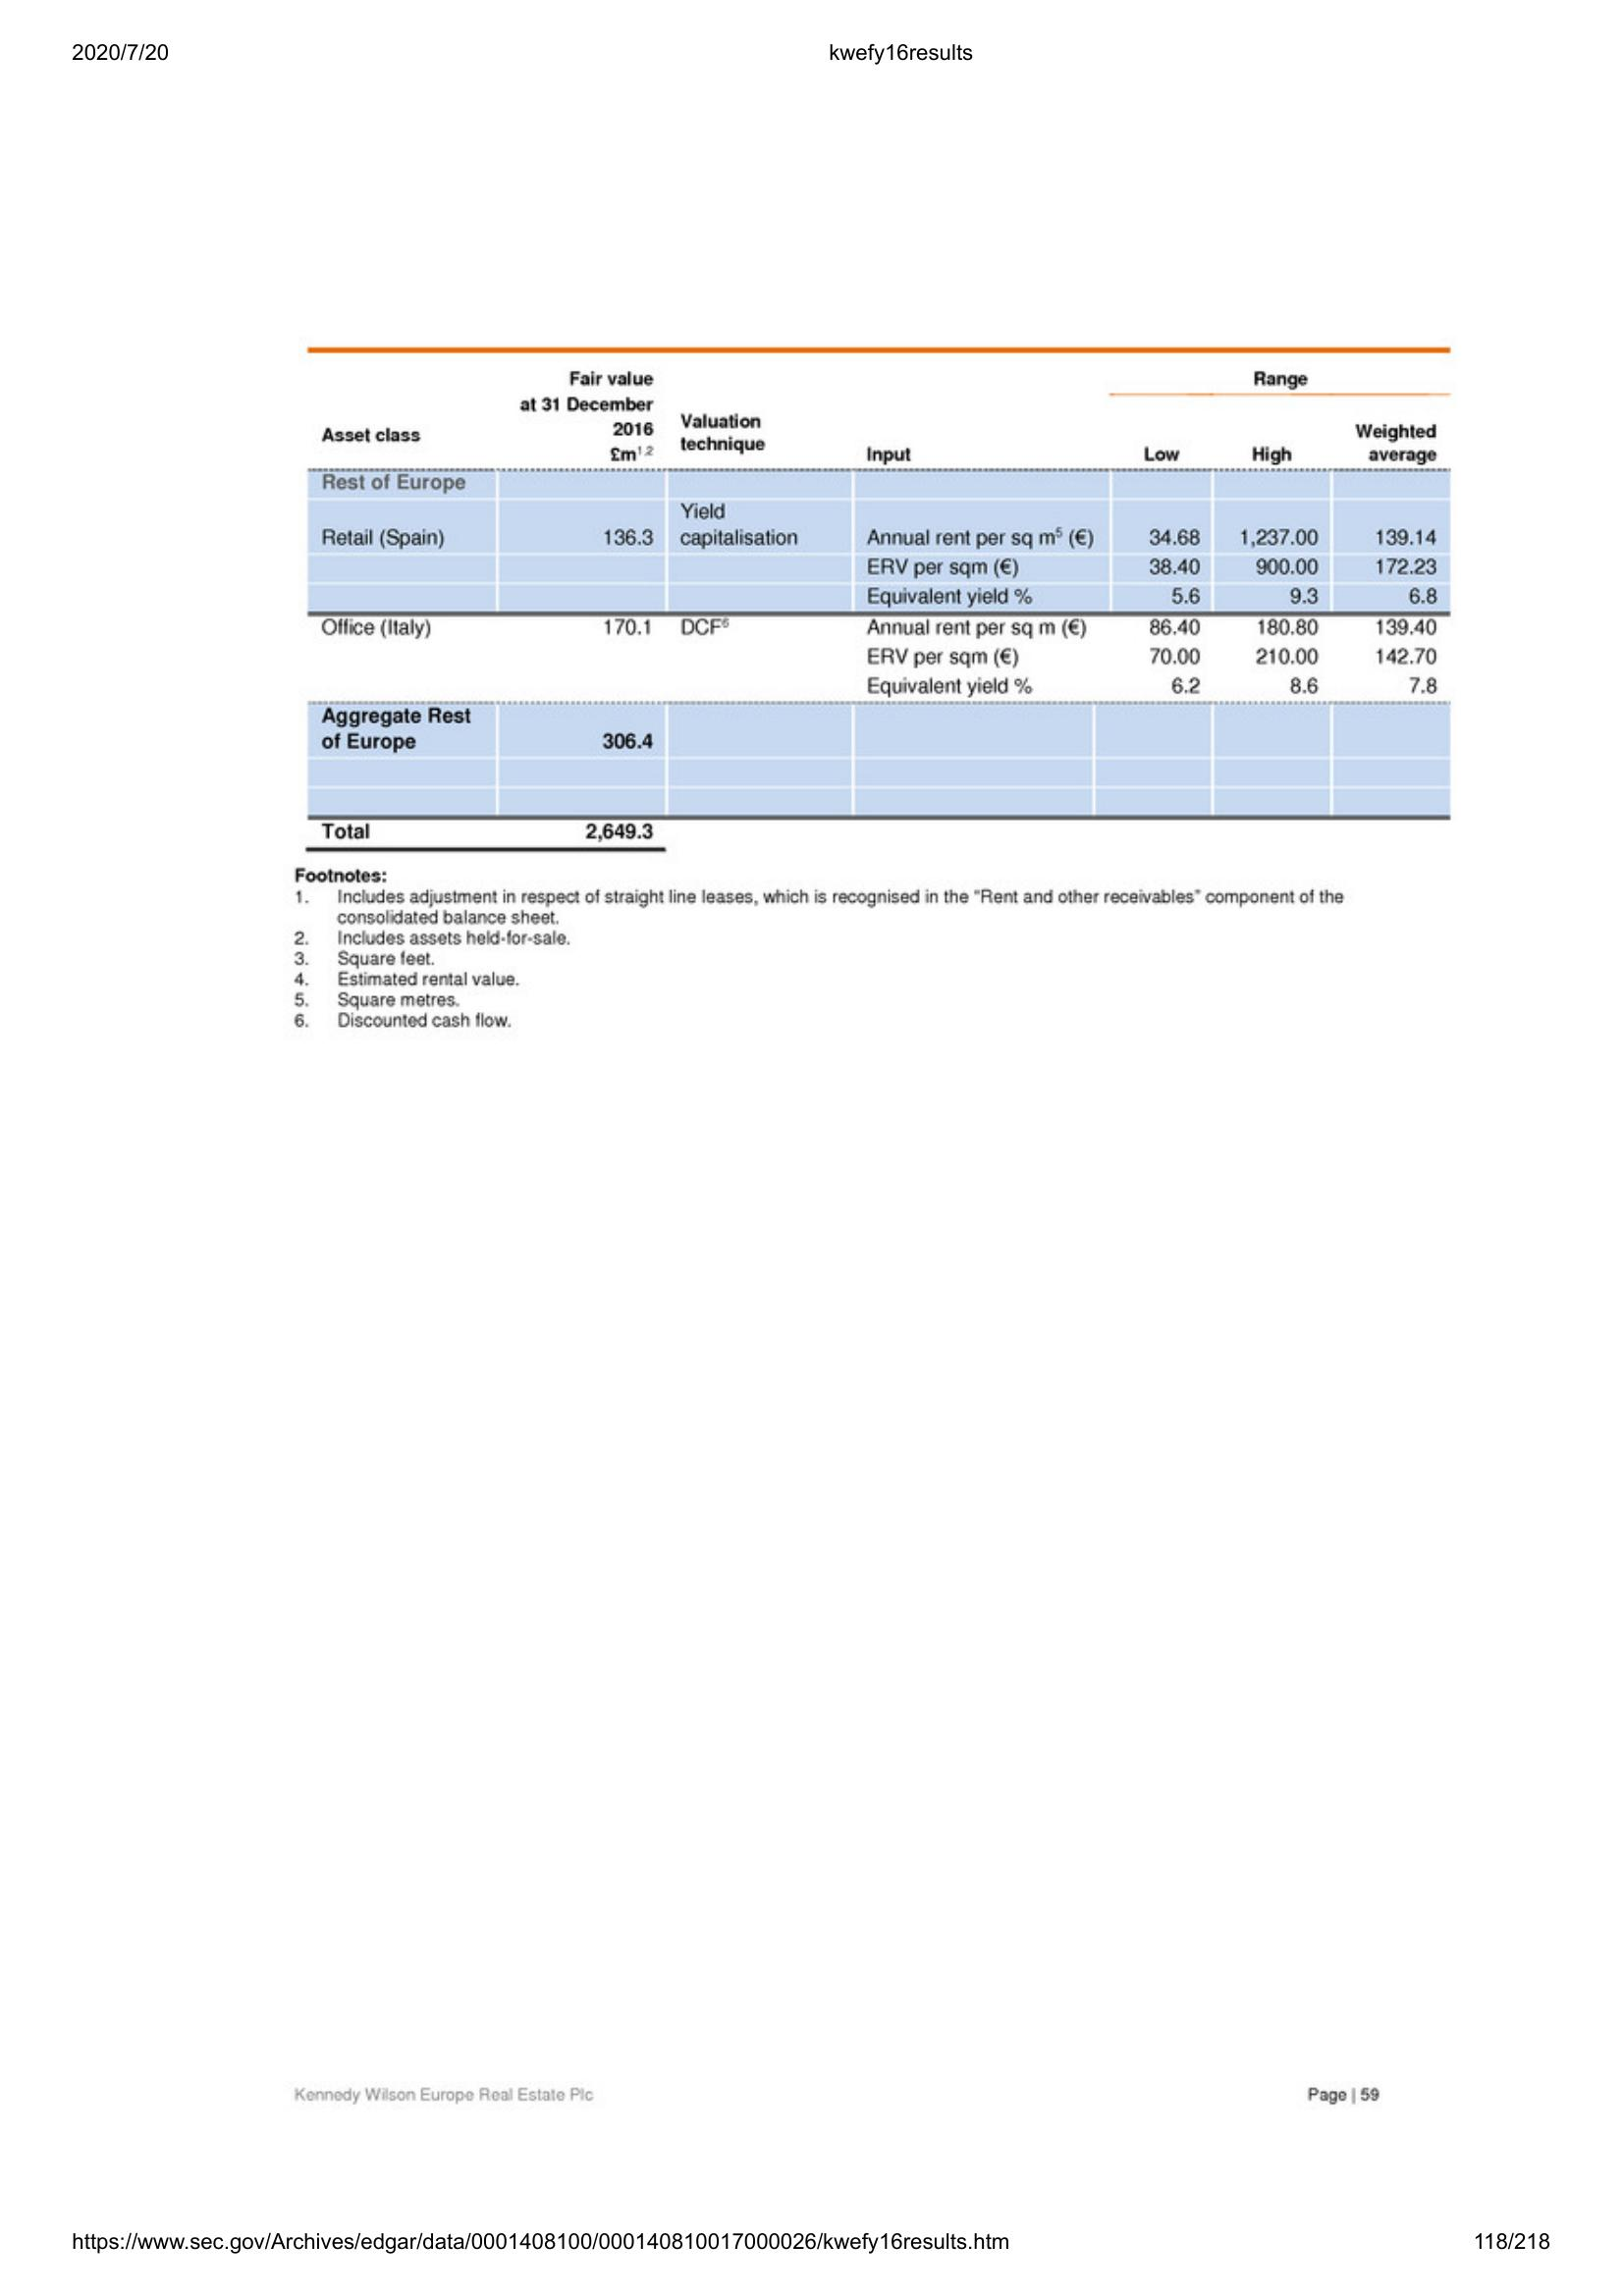table: (293, 339, 1461, 858)
